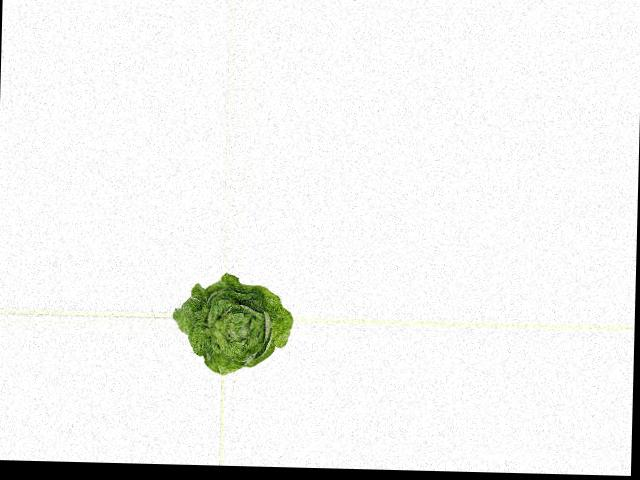lettuce: (174, 272, 295, 375)
